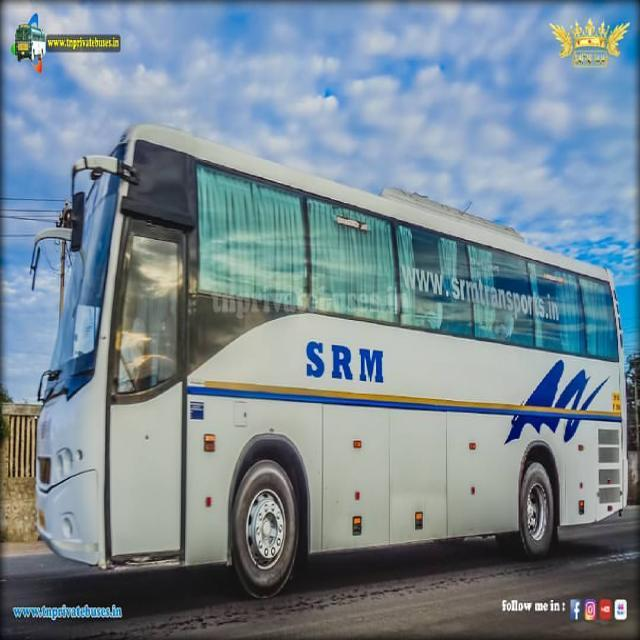Bus: (37, 108, 631, 604)
